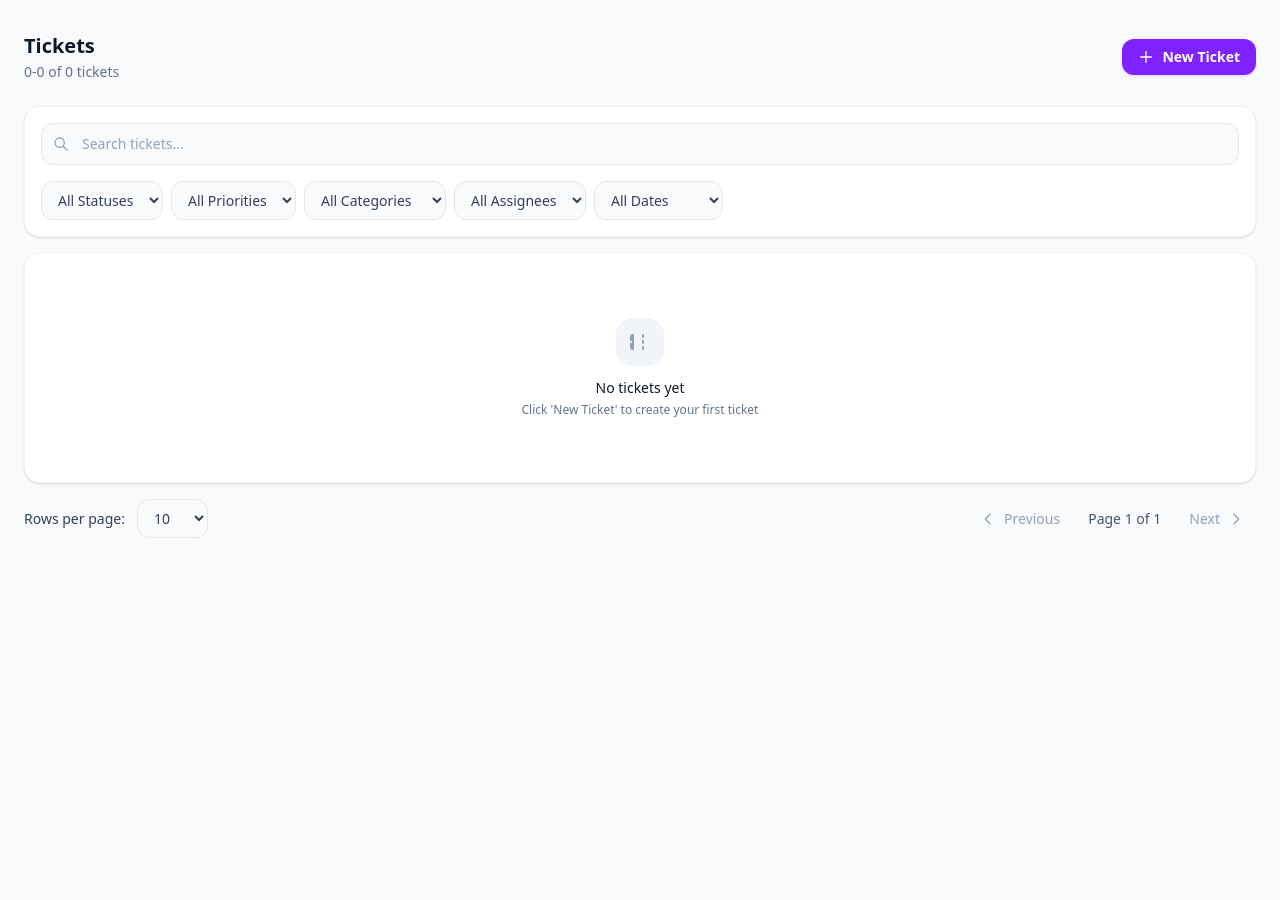
TicketsPage › CreateTicketModal › shows validation errors on empty submit
Expected: the text "No tickets yet" is shown, top-left (596, 378), bottom-right (684, 398)
What coordinates should you click on to do the following:
click the button "New Ticket"
I would click on:
 (1189, 57)
Its box is top-left (1122, 39), bottom-right (1256, 75).
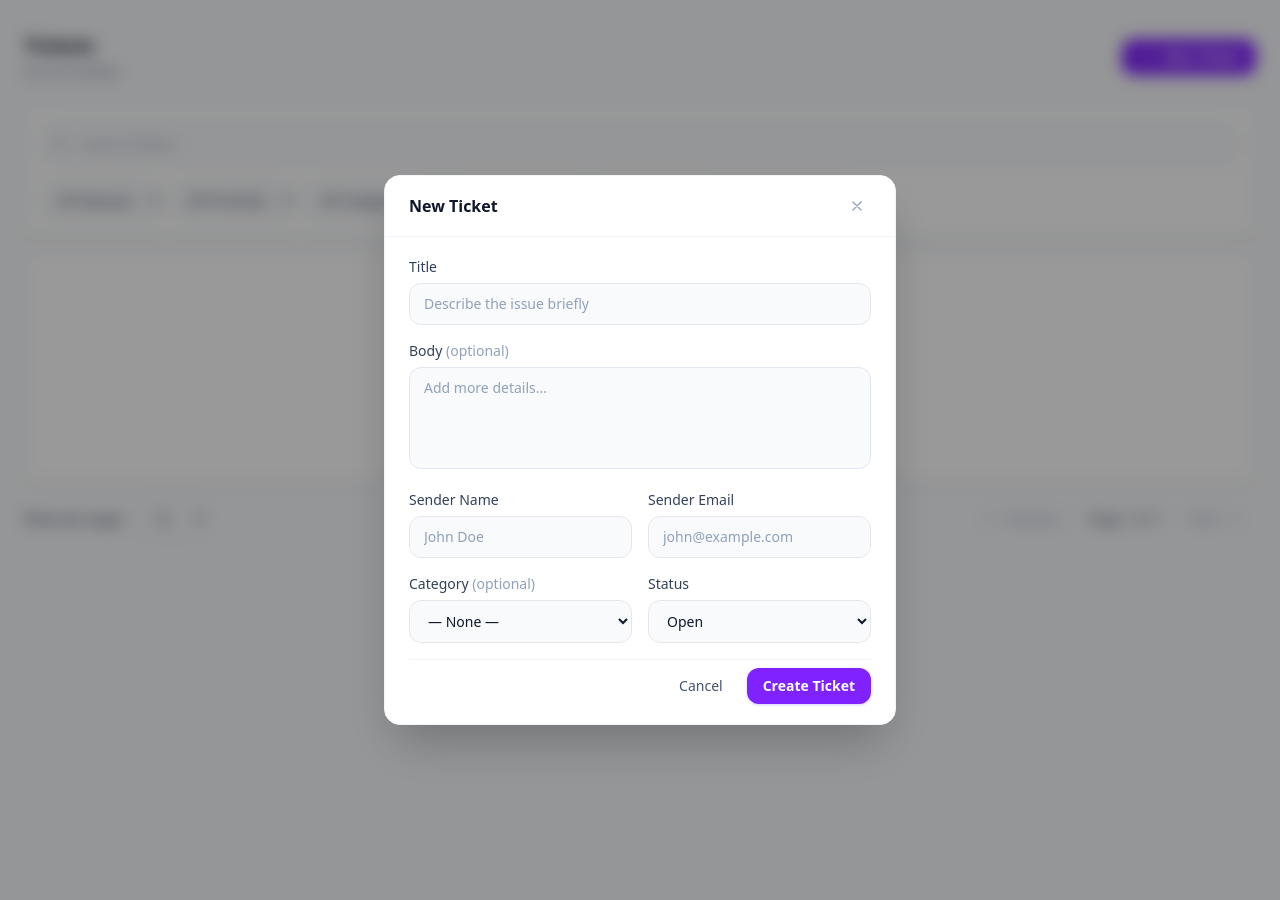
What coordinates should you click on to do the following:
click the button "Create Ticket"
I would click on:
 (809, 686)
Its box is top-left (747, 668), bottom-right (871, 704).
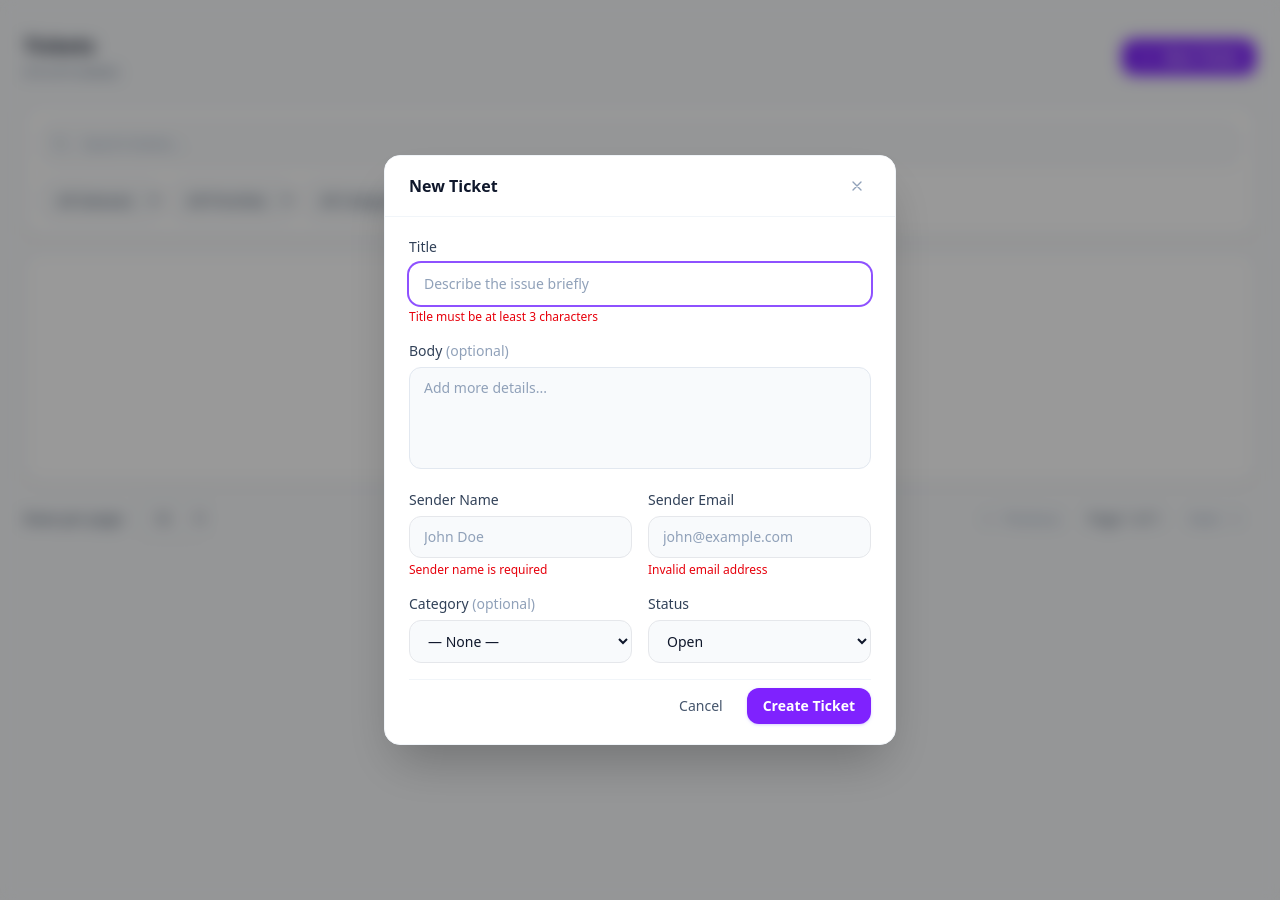
Now the text "Title must be at least 3 characters" is shown, box top-left (409, 308), bottom-right (598, 325)
Now the text "Sender name is required" is shown, box top-left (409, 561), bottom-right (548, 578)
Now the text "Invalid email address" is shown, box top-left (648, 561), bottom-right (768, 578)
